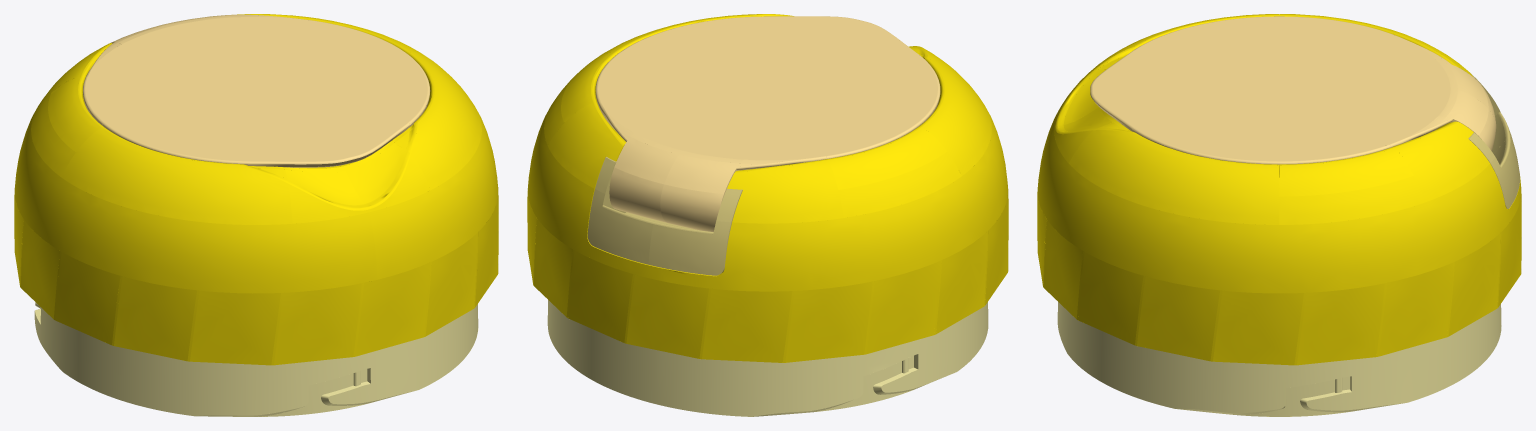
3 renders of one model, left to right at view 1: azimuth 30°, elevation 25°; view 2: azimuth 150°, elevation 25°; view 3: azimuth 270°, elevation 25°, orthographic.
Visible parts, largest first — view 1: Upper, Tongue, Laces; view 2: Upper, Tongue, Laces, Sole; view 3: Upper, Tongue, Laces, Sole.
Boxes of the visible parts, <box> form: Upper: <box>14,14,498,365</box>; Tongue: <box>83,14,430,167</box>; Laces: <box>34,302,478,416</box>; Upper: <box>527,14,1008,362</box>; Tongue: <box>595,16,940,231</box>; Laces: <box>547,300,988,416</box>; Sole: <box>587,157,742,275</box>; Upper: <box>1037,14,1521,365</box>; Tongue: <box>1090,16,1496,164</box>; Laces: <box>1057,302,1501,416</box>; Sole: <box>1468,72,1519,208</box>.
Size of the model in its own units: 3.2 by 1.73 by 3.2.
